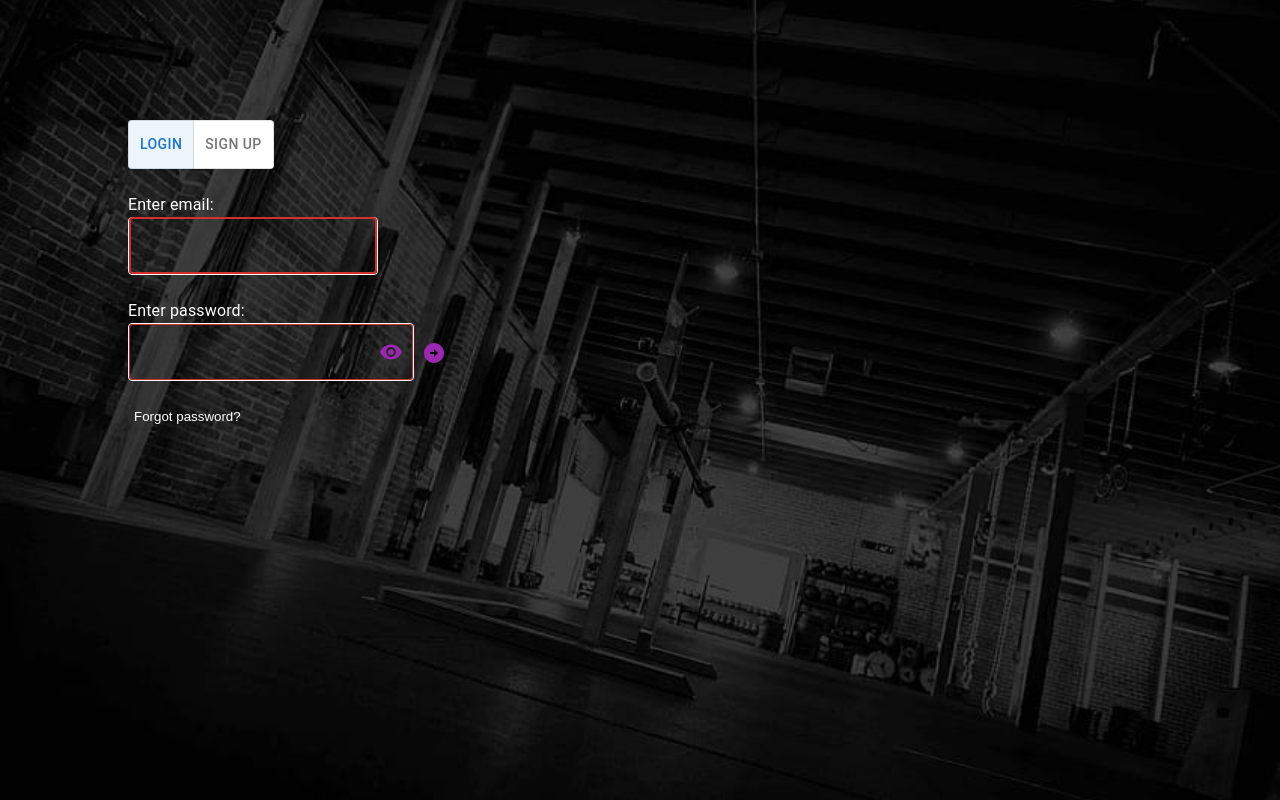
it: basic renders › check toggle button
Expected: the text "Enter name:" is not shown
Expected: the button "Login" is disabled, [128,120,194,168]
Click the button "Sign Up": coordinates (233, 144) [193,120,274,168]
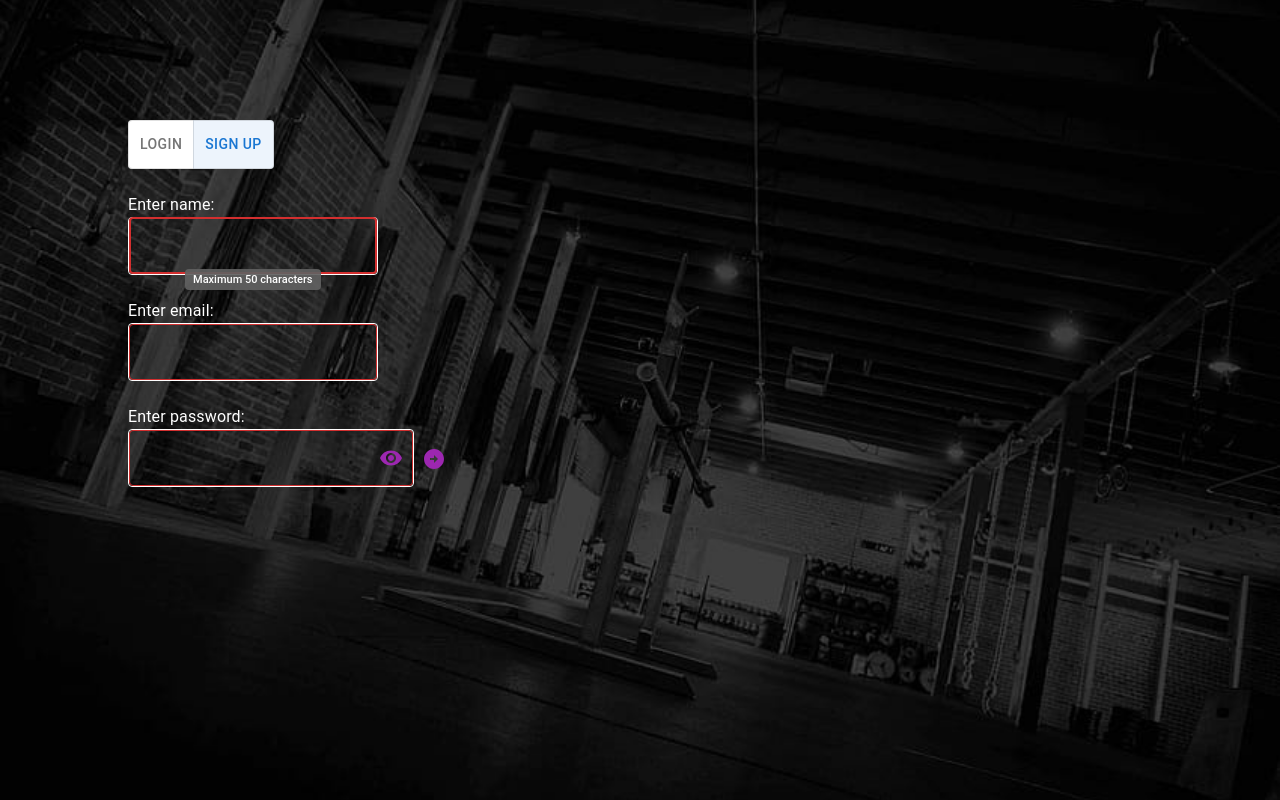
Expected: the text "Enter name:" is shown, [128,194,215,214]
Expected: the button "Sign Up" is disabled, [193,120,274,168]
Expected: the button "Login" is enabled, [128,120,194,168]
